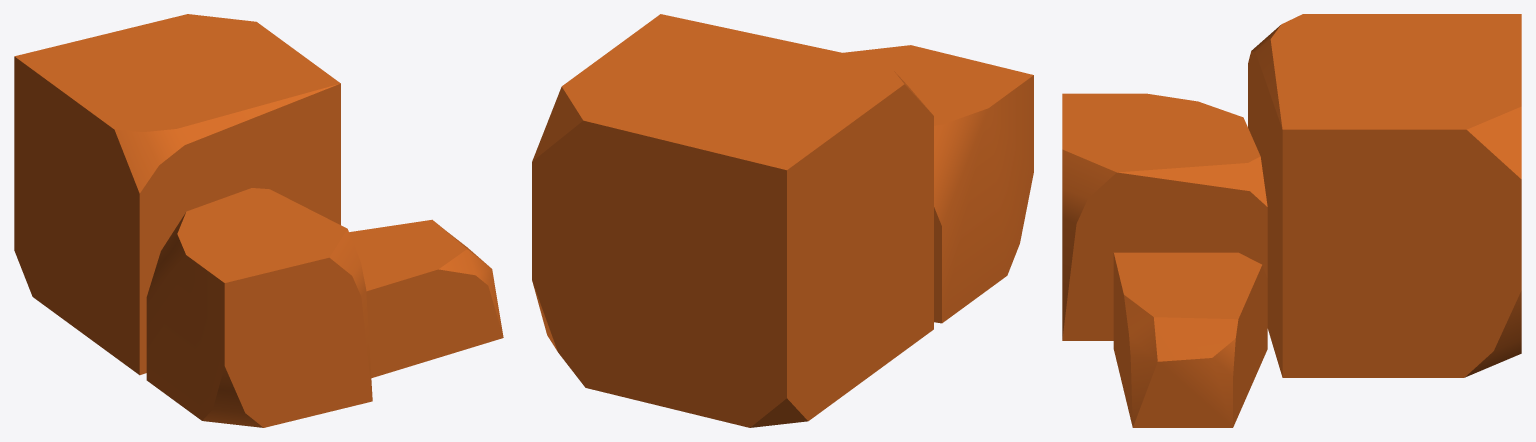
Rendered from OBJ_SmallRock_03.FBX.
3 renders of one model, left to right at view 1: azimuth 30°, elevation 25°; view 2: azimuth 150°, elevation 25°; view 3: azimuth 270°, elevation 25°, orthographic. The views are drawn at different scales.
Visible parts, largest first — view 1: OBJ_SmallRock_03; view 2: OBJ_SmallRock_03; view 3: OBJ_SmallRock_03.
Part boxes in pixels (x1=…): OBJ_SmallRock_03: x1=14, y1=14, x2=503, y2=427; OBJ_SmallRock_03: x1=532, y1=14, x2=1033, y2=427; OBJ_SmallRock_03: x1=1062, y1=14, x2=1521, y2=427.
Size of the model in its own units: 4.02 by 2.81 by 4.71.
